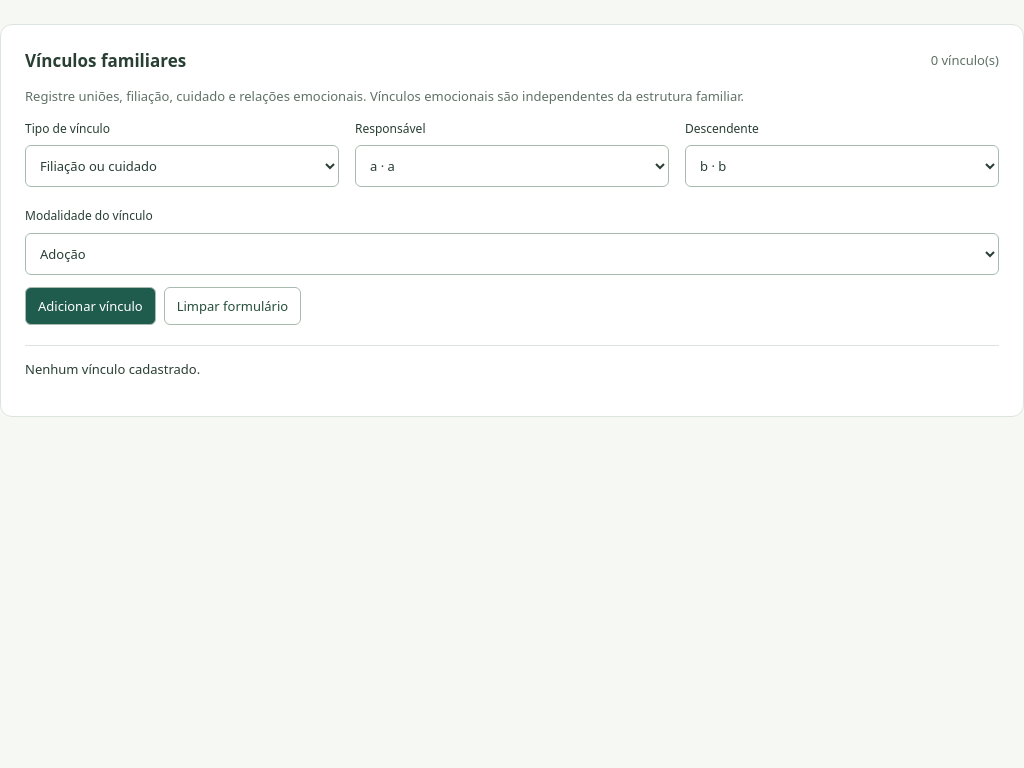
Scenario: VinculosComponent › deve cadastrar adoção pelo formulário e alterar para acolhimento na lista
This screenshot has width=1024, height=768.
Submit the form, box x1=25 y1=120 x2=999 y2=325
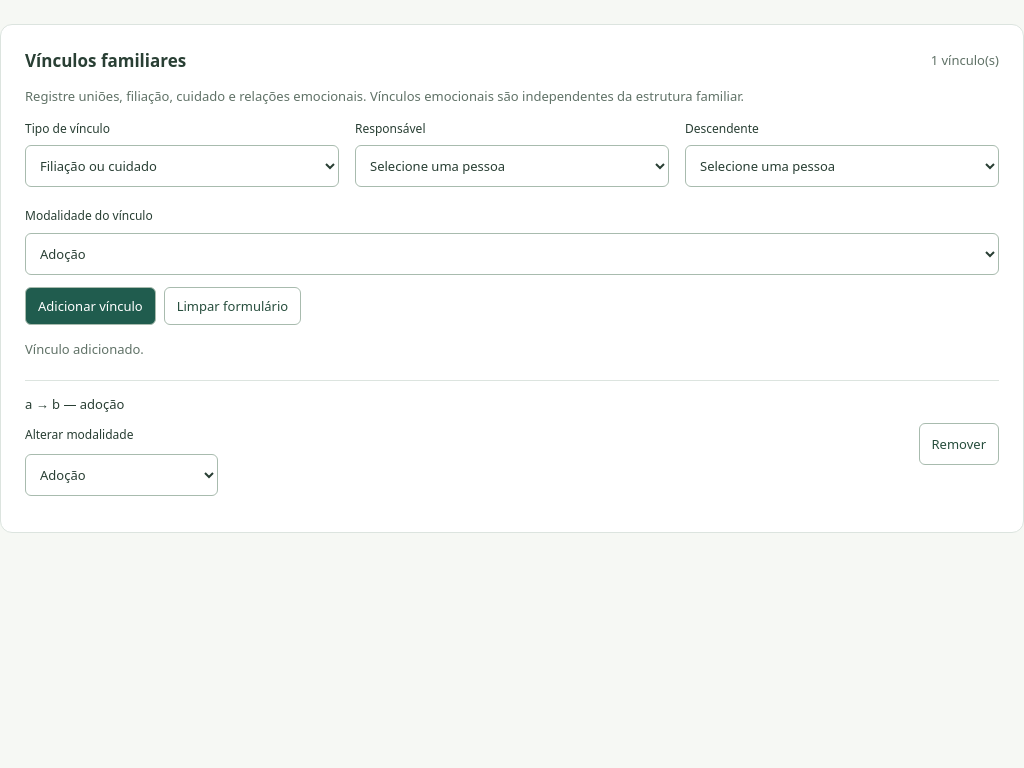
Select "Acolhimento" in the dropdown labelled "Alterar modalidade" at (122, 475), box x1=25 y1=454 x2=218 y2=496
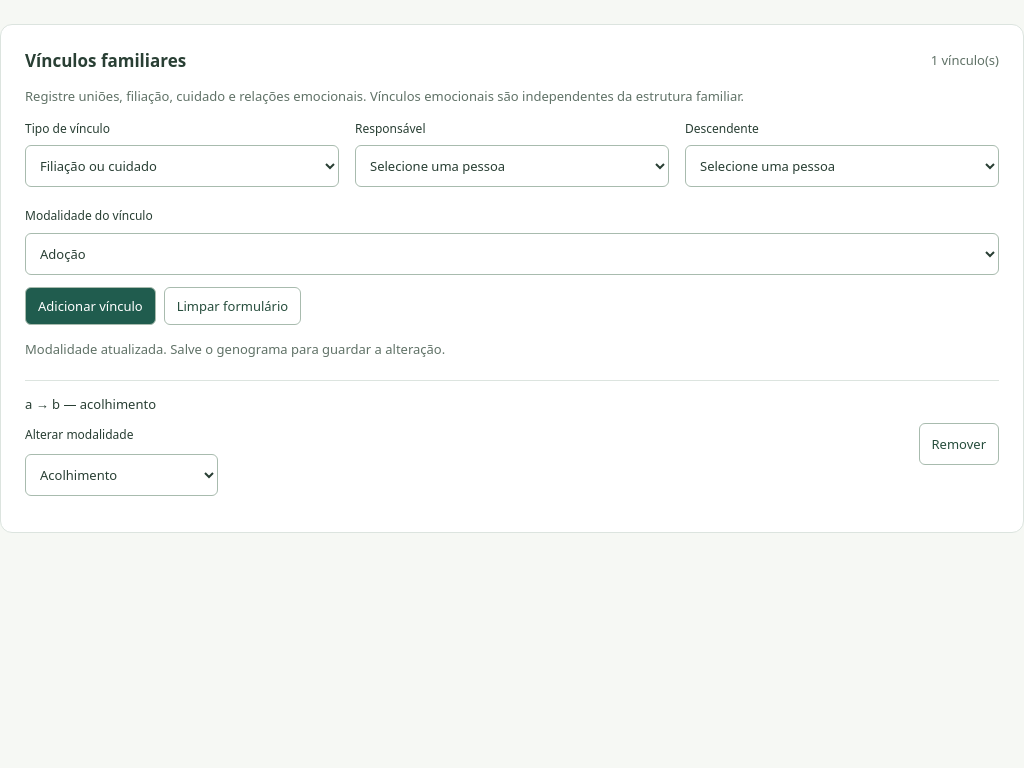
Check: the text "a → b — acolhimento" is shown, box x1=25 y1=395 x2=156 y2=413
